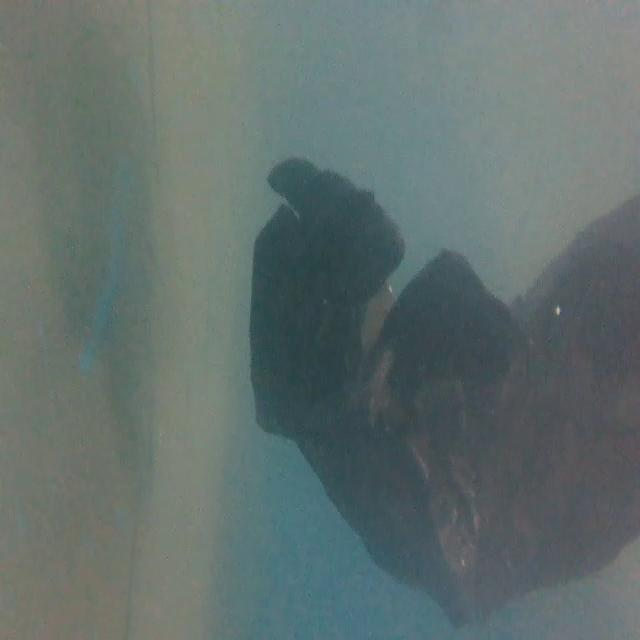plastic bags: (244, 158, 640, 625)
